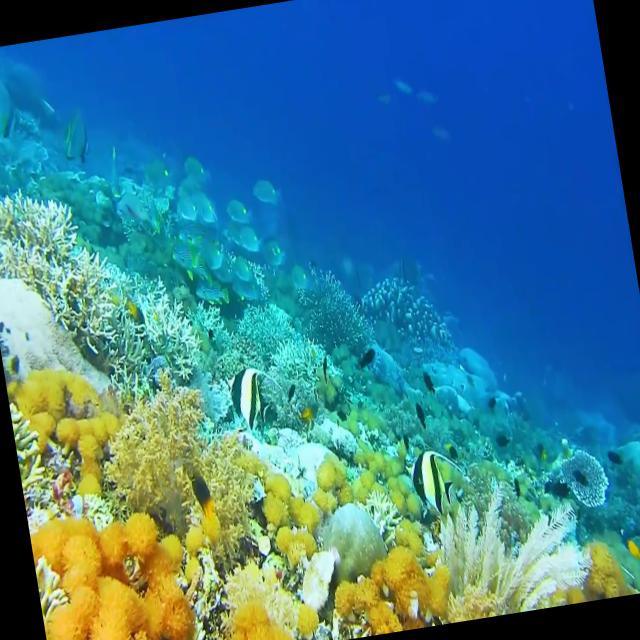fish: (395, 432, 465, 534), (215, 339, 282, 440), (340, 330, 386, 386)
